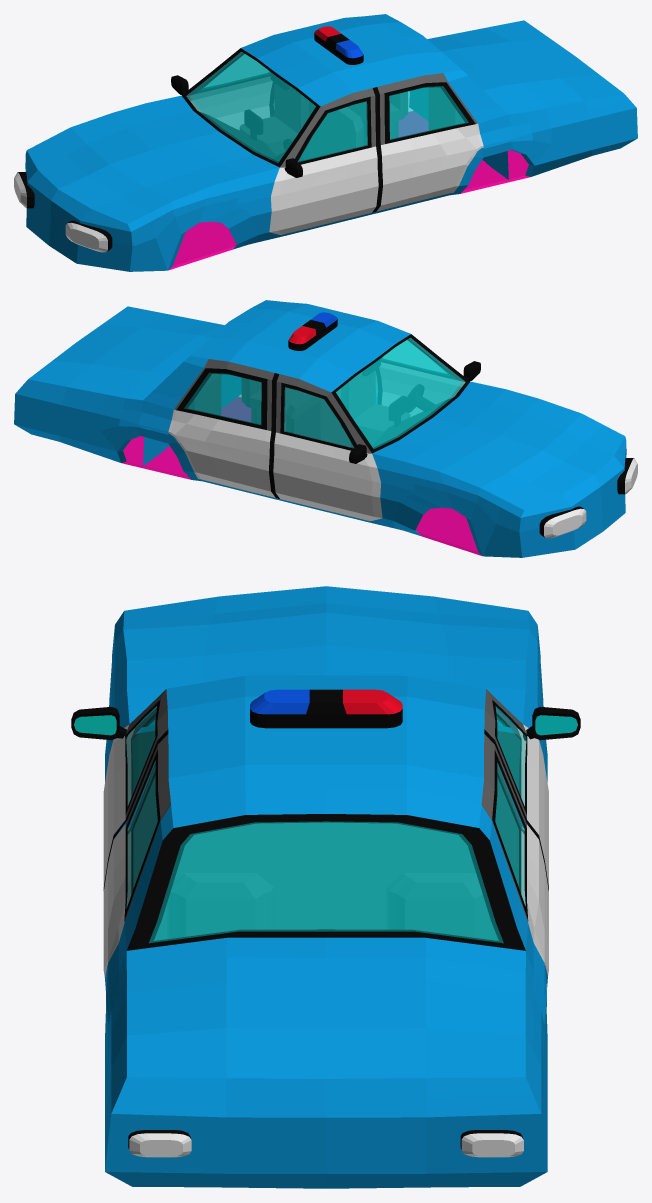
File: PoliceCar.fbx
3 renders of one model, top to bottom at view 1: azimuth 30°, elevation 25°; view 2: azimuth 150°, elevation 25°; view 3: azimuth 270°, elevation 25°, orthographic. The views are drawn at different scales.
Parts seen in each view (by area): view 1: Car, Trunk, FDL, BDL, FDR, ChairR, Headlights, ChairL, CarCage, SirionLight, ChairL.001, Car.001 (+3 smaller); view 2: Car, Trunk, FDR, BDR, FDL, ChairL, Headlights, ChairR, CarCage, SirionLight, Car.001, ChairR.001 (+4 smaller); view 3: Car, Trunk, CarCage, BDL, BDR, ChairL.001, ChairR.001, SirionLight, FDL, FDR, BackLights, Dashboard (+2 smaller).
Boxes of the visible parts, left/top/right/bottom form: Car: left=25, top=14, right=637, bottom=271; Trunk: left=427, top=20, right=636, bottom=138; FDL: left=269, top=88, right=378, bottom=234; BDL: left=376, top=73, right=483, bottom=211; FDR: left=186, top=52, right=272, bottom=129; ChairR: left=240, top=83, right=308, bottom=155; Headlights: left=14, top=172, right=112, bottom=252; ChairL: left=329, top=107, right=363, bottom=154; CarCage: left=302, top=101, right=367, bottom=160; SirionLight: left=314, top=26, right=363, bottom=64; ChairL.001: left=429, top=87, right=462, bottom=130; Car.001: left=409, top=88, right=508, bottom=179; Car: left=14, top=300, right=626, bottom=557; Trunk: left=15, top=306, right=224, bottom=423; FDR: left=273, top=374, right=382, bottom=520; BDR: left=168, top=359, right=275, bottom=497; FDL: left=379, top=338, right=465, bottom=416; ChairL: left=341, top=370, right=409, bottom=448; Headlights: left=539, top=458, right=637, bottom=538; ChairR: left=286, top=395, right=320, bottom=439; CarCage: left=284, top=387, right=350, bottom=446; SirionLight: left=288, top=312, right=337, bottom=350; Car.001: left=143, top=374, right=241, bottom=465; ChairR.001: left=188, top=374, right=220, bottom=415; Car: left=103, top=586, right=548, bottom=1188; Trunk: left=109, top=937, right=543, bottom=1117; CarCage: left=127, top=763, right=524, bottom=940; BDL: left=103, top=734, right=170, bottom=977; BDR: left=481, top=734, right=548, bottom=975; ChairL.001: left=167, top=873, right=273, bottom=938; ChairR.001: left=387, top=873, right=492, bottom=939; SirionLight: left=250, top=689, right=402, bottom=728; FDL: left=103, top=689, right=168, bottom=886; FDR: left=484, top=689, right=548, bottom=886; BackLights: left=128, top=1130, right=523, bottom=1157; Dashboard: left=131, top=731, right=521, bottom=796.
Bounding box in the file's own units: 330 × 80.05 × 134.
